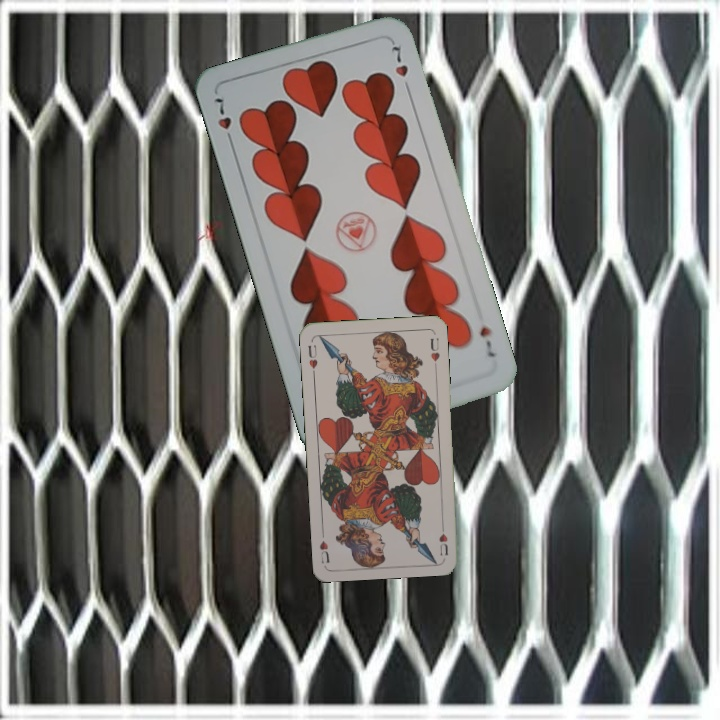H7: (209, 93, 237, 149), (475, 322, 498, 360)
HU: (435, 518, 450, 558), (304, 341, 320, 378)
